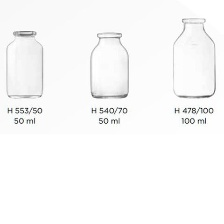bottle: (168, 16, 219, 101), (85, 29, 132, 102), (4, 28, 49, 101)
